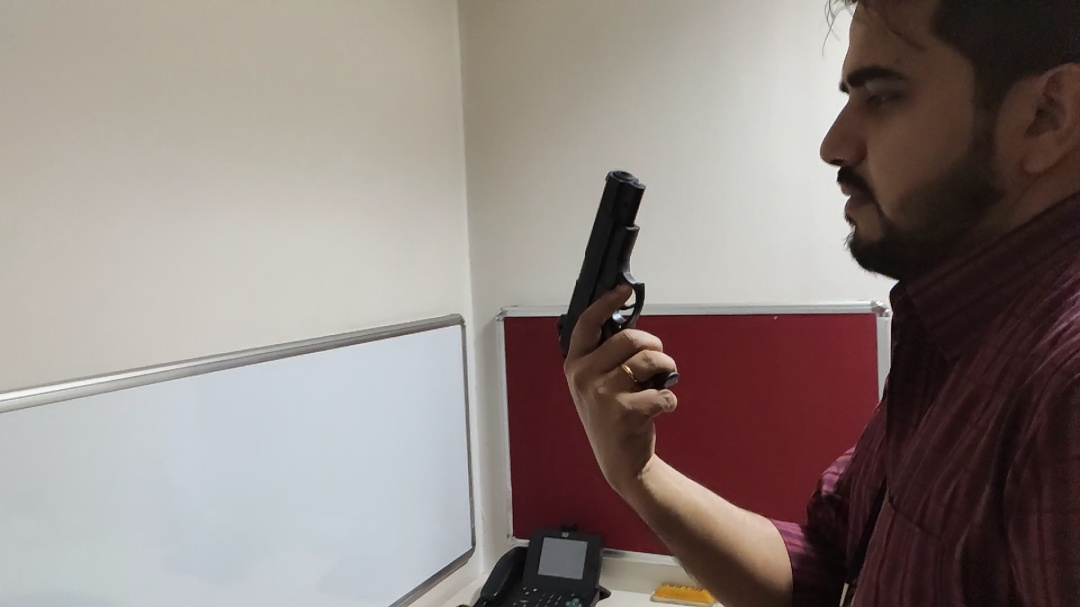gun: (555, 168, 688, 392)
